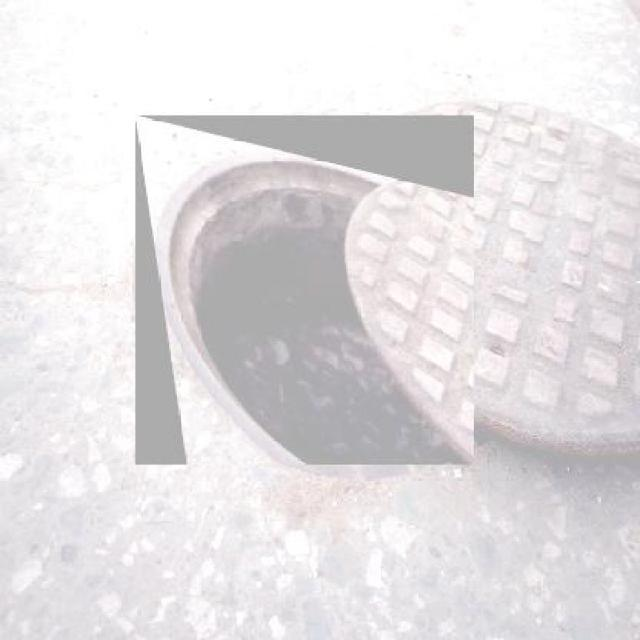Open Manhole: (135, 116, 474, 464)
